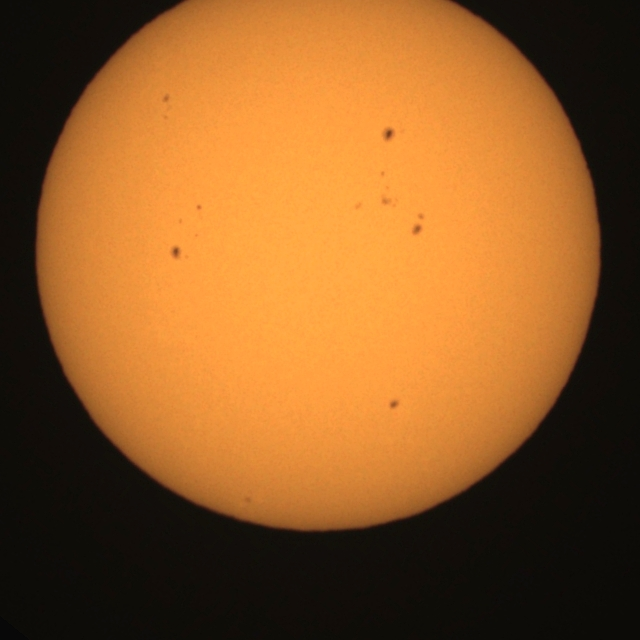sunspot: (380, 183, 400, 209), (410, 212, 426, 237), (169, 244, 190, 262), (160, 90, 172, 119), (380, 125, 397, 143), (388, 398, 401, 411), (353, 200, 364, 212), (161, 92, 171, 105), (195, 203, 203, 211), (177, 217, 184, 225), (379, 170, 386, 178), (194, 233, 199, 238)
